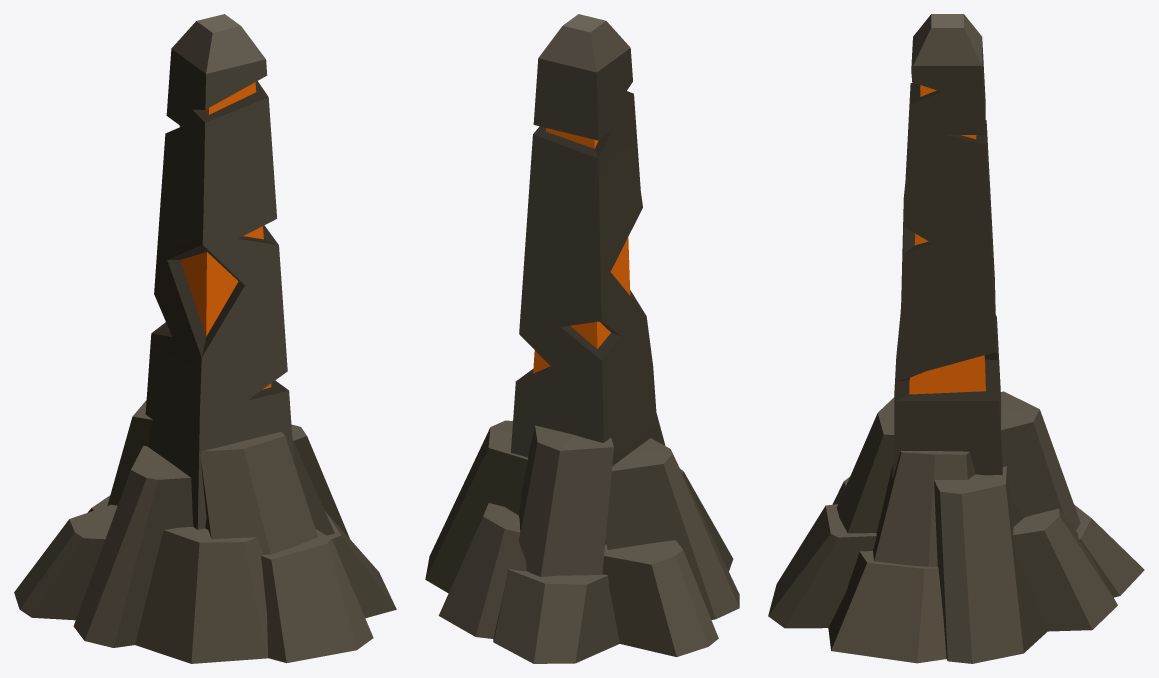
Rendered from SF_Env_Undead_LavaPillar_01.fbx.
3 views of the same model, side by side, from view 1: azimuth 30°, elevation 25°; view 2: azimuth 150°, elevation 25°; view 3: azimuth 270°, elevation 25° (orthographic). The views are drawn at different scales.
Parts seen in each view (by area): view 1: SF_Env_Undead_LavaPillar_01; view 2: SF_Env_Undead_LavaPillar_01; view 3: SF_Env_Undead_LavaPillar_01.
Boxes of the visible parts, x1,y1,x2,y2 form: SF_Env_Undead_LavaPillar_01: (14, 14, 396, 663); SF_Env_Undead_LavaPillar_01: (425, 14, 739, 663); SF_Env_Undead_LavaPillar_01: (768, 14, 1144, 663).
Bounding box in the file's own units: 6.51 × 11.51 × 6.87.
